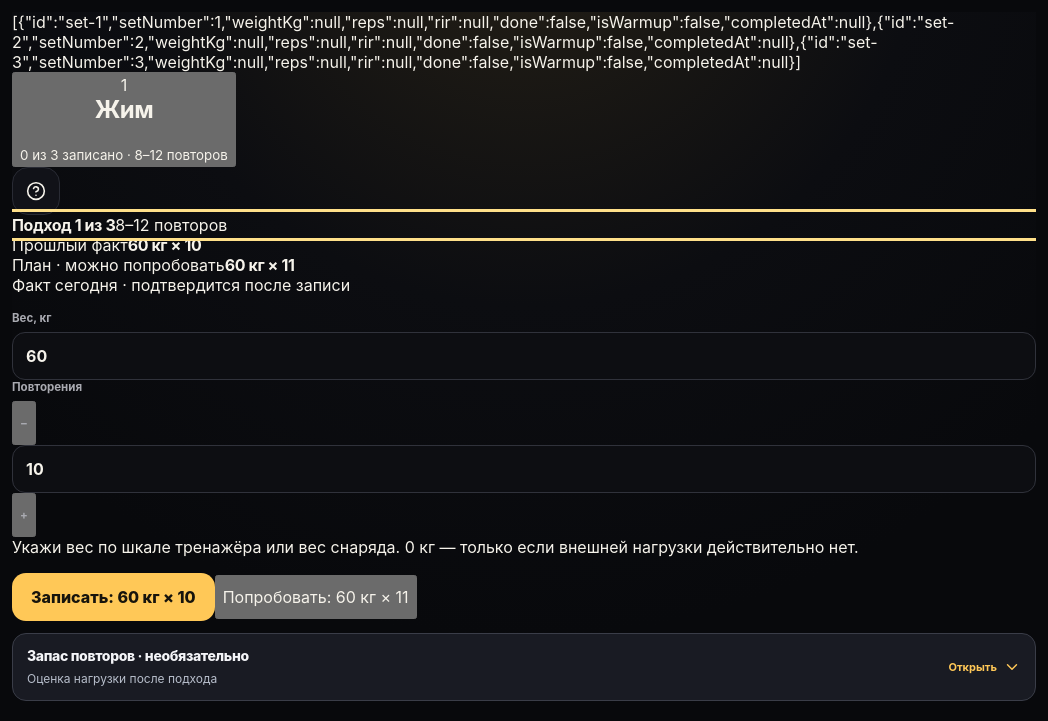
Test: focused set entry › shows only the active editor and confirms each standard set in one click
Expected: the number field named "подход 1, вес" holds "60", [12, 332, 1036, 380]
Expected: the number field named "подход 1, повторы" holds "10", [12, 445, 1036, 493]
Click the button with aria-label "Записать подход 1 · Жим" at {"x": 113, "y": 597}, box [12, 573, 215, 621]
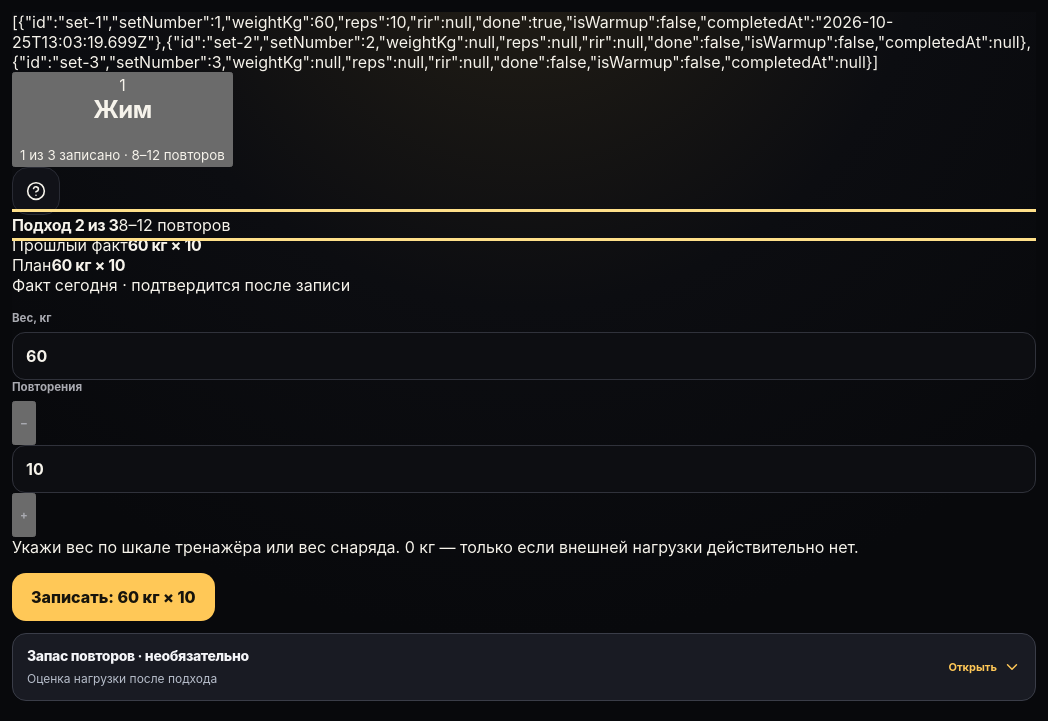
Expected: the number field named "подход 2, вес" holds "60", [12, 332, 1036, 380]
Expected: the number field named "подход 2, повторы" holds "10", [12, 445, 1036, 493]
Click the button with aria-label "Записать подход 2 · Жим" at {"x": 113, "y": 597}, box [12, 573, 215, 621]
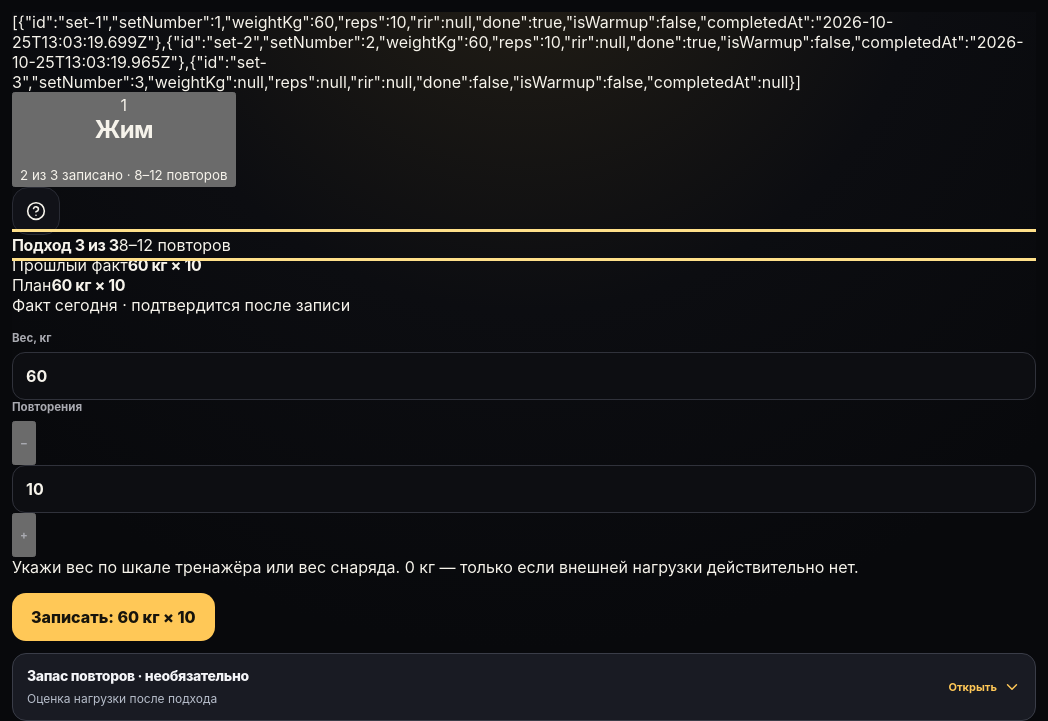
Expected: the number field named "подход 3, вес" holds "60", [12, 352, 1036, 400]
Click the button with aria-label "Записать подход 3 · Жим" at {"x": 113, "y": 617}, box [12, 593, 215, 641]
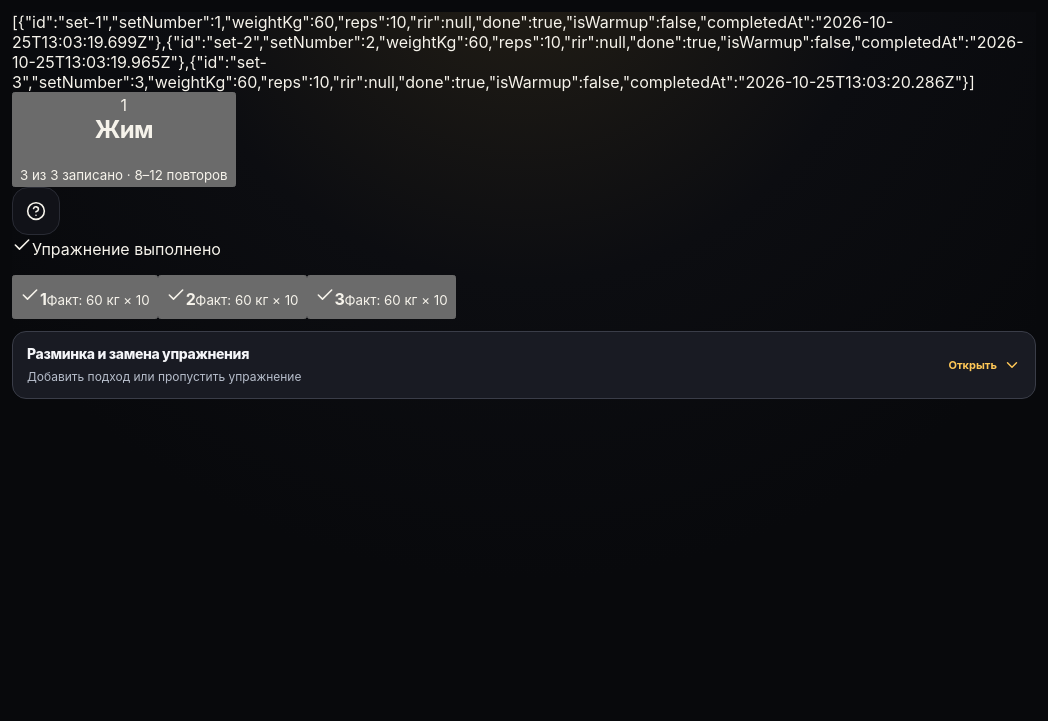
Result: the text "Упражнение выполнено" is shown at [12, 235, 221, 259]
